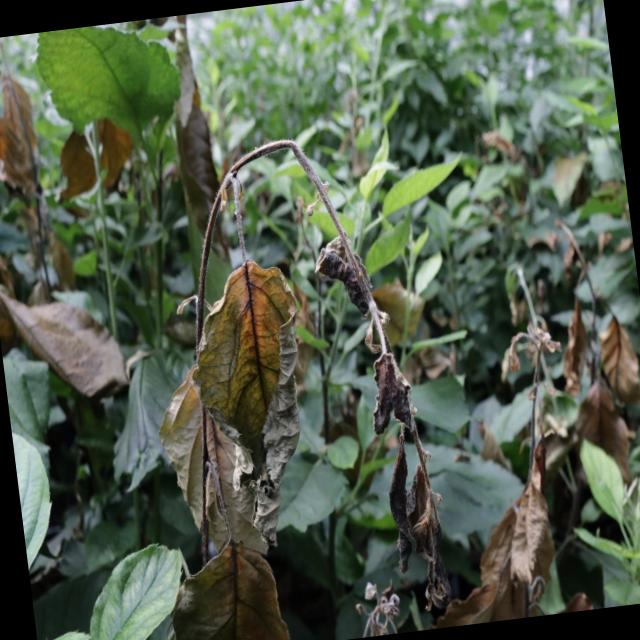-FireBlight-: (150, 131, 640, 640), (0, 47, 148, 391)
